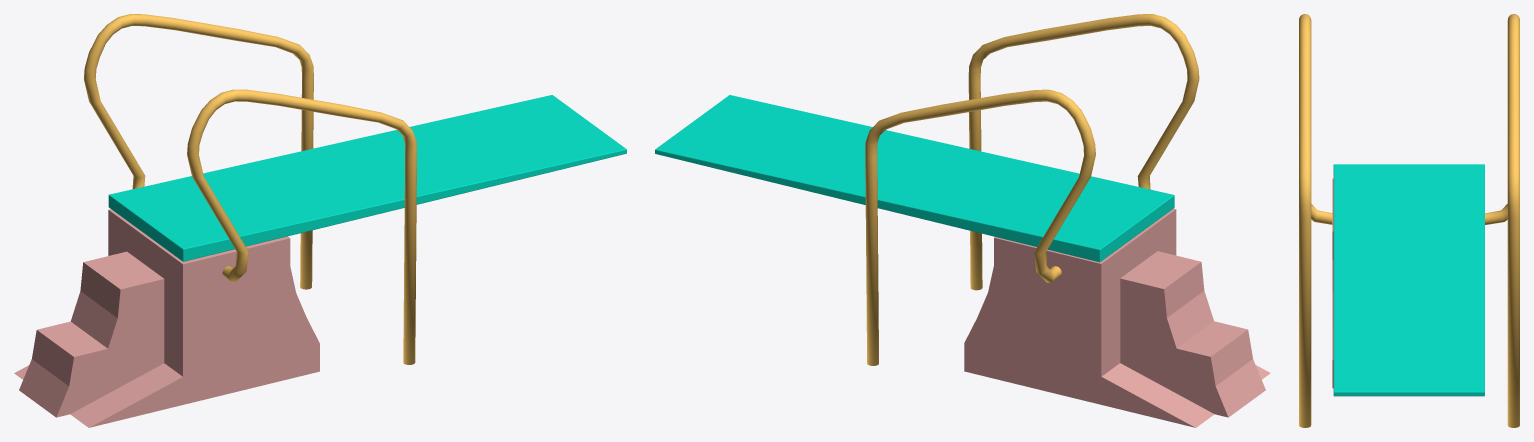
The model's file is WaterJump.fbx.
The picture shows the model from 3 angles, left to right: view 1: azimuth 30°, elevation 25°; view 2: azimuth 150°, elevation 25°; view 3: azimuth 270°, elevation 25°; orthographic projection.
Visible parts, largest first — view 1: Cube.080; view 2: Cube.080; view 3: Cube.080.
Part boxes in pixels (bbox=[...]): Cube.080: bbox=[14, 14, 626, 427]; Cube.080: bbox=[655, 14, 1270, 427]; Cube.080: bbox=[1299, 14, 1519, 427].
Bounding box in the file's own units: 315 × 172 × 108.
